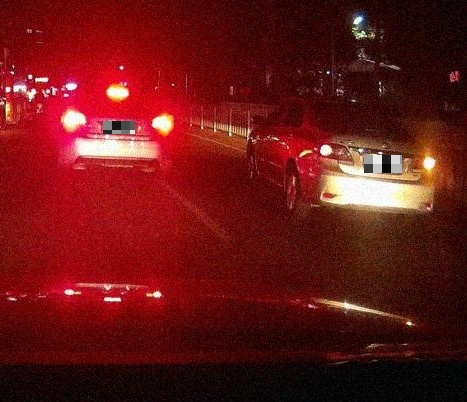L_light: (315, 141, 354, 167), (63, 115, 92, 127)
R_light: (411, 155, 436, 174), (147, 117, 171, 130)
T_light: (106, 87, 129, 97), (347, 106, 365, 110)
night-brake: (61, 83, 173, 176)
night-right: (306, 101, 437, 227)
plate_1: (103, 121, 135, 134)
plate_2: (364, 155, 402, 173)
